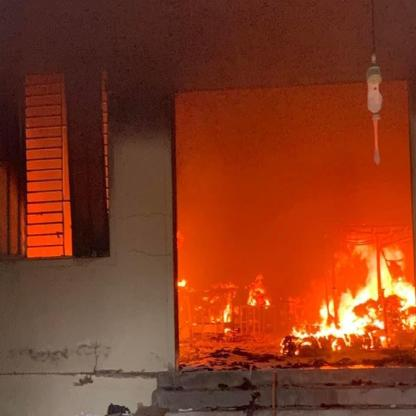fire: (285, 227, 415, 356)
smoke: (0, 21, 414, 324)
